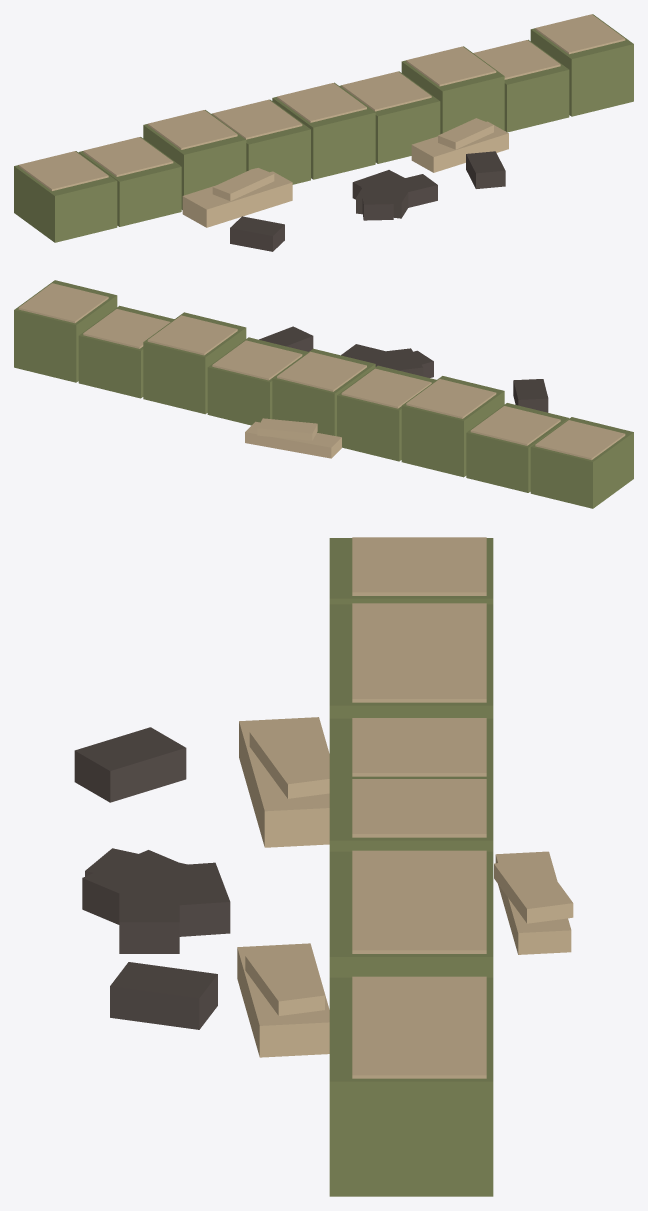
File: SM_MuroHesco_v0_MallaLimpia_e2_MuyDanado_LOD1.fbx
3 views of the same model, one above another, from view 1: azimuth 30°, elevation 25°; view 2: azimuth 150°, elevation 25°; view 3: azimuth 270°, elevation 25° (orthographic). The views are drawn at different scales.
Visible parts, largest first — view 1: SM_bloques.muro_hesco_estados_v2_LOD1; view 2: SM_bloques.muro_hesco_estados_v2_LOD1; view 3: SM_bloques.muro_hesco_estados_v2_LOD1.
Part boxes in pixels (x1,y1,x2,y2): SM_bloques.muro_hesco_estados_v2_LOD1: (14, 14, 633, 251); SM_bloques.muro_hesco_estados_v2_LOD1: (14, 280, 633, 508); SM_bloques.muro_hesco_estados_v2_LOD1: (74, 537, 573, 1196).
Size of the model in its own units: 9.96 by 0.976 by 3.71.
